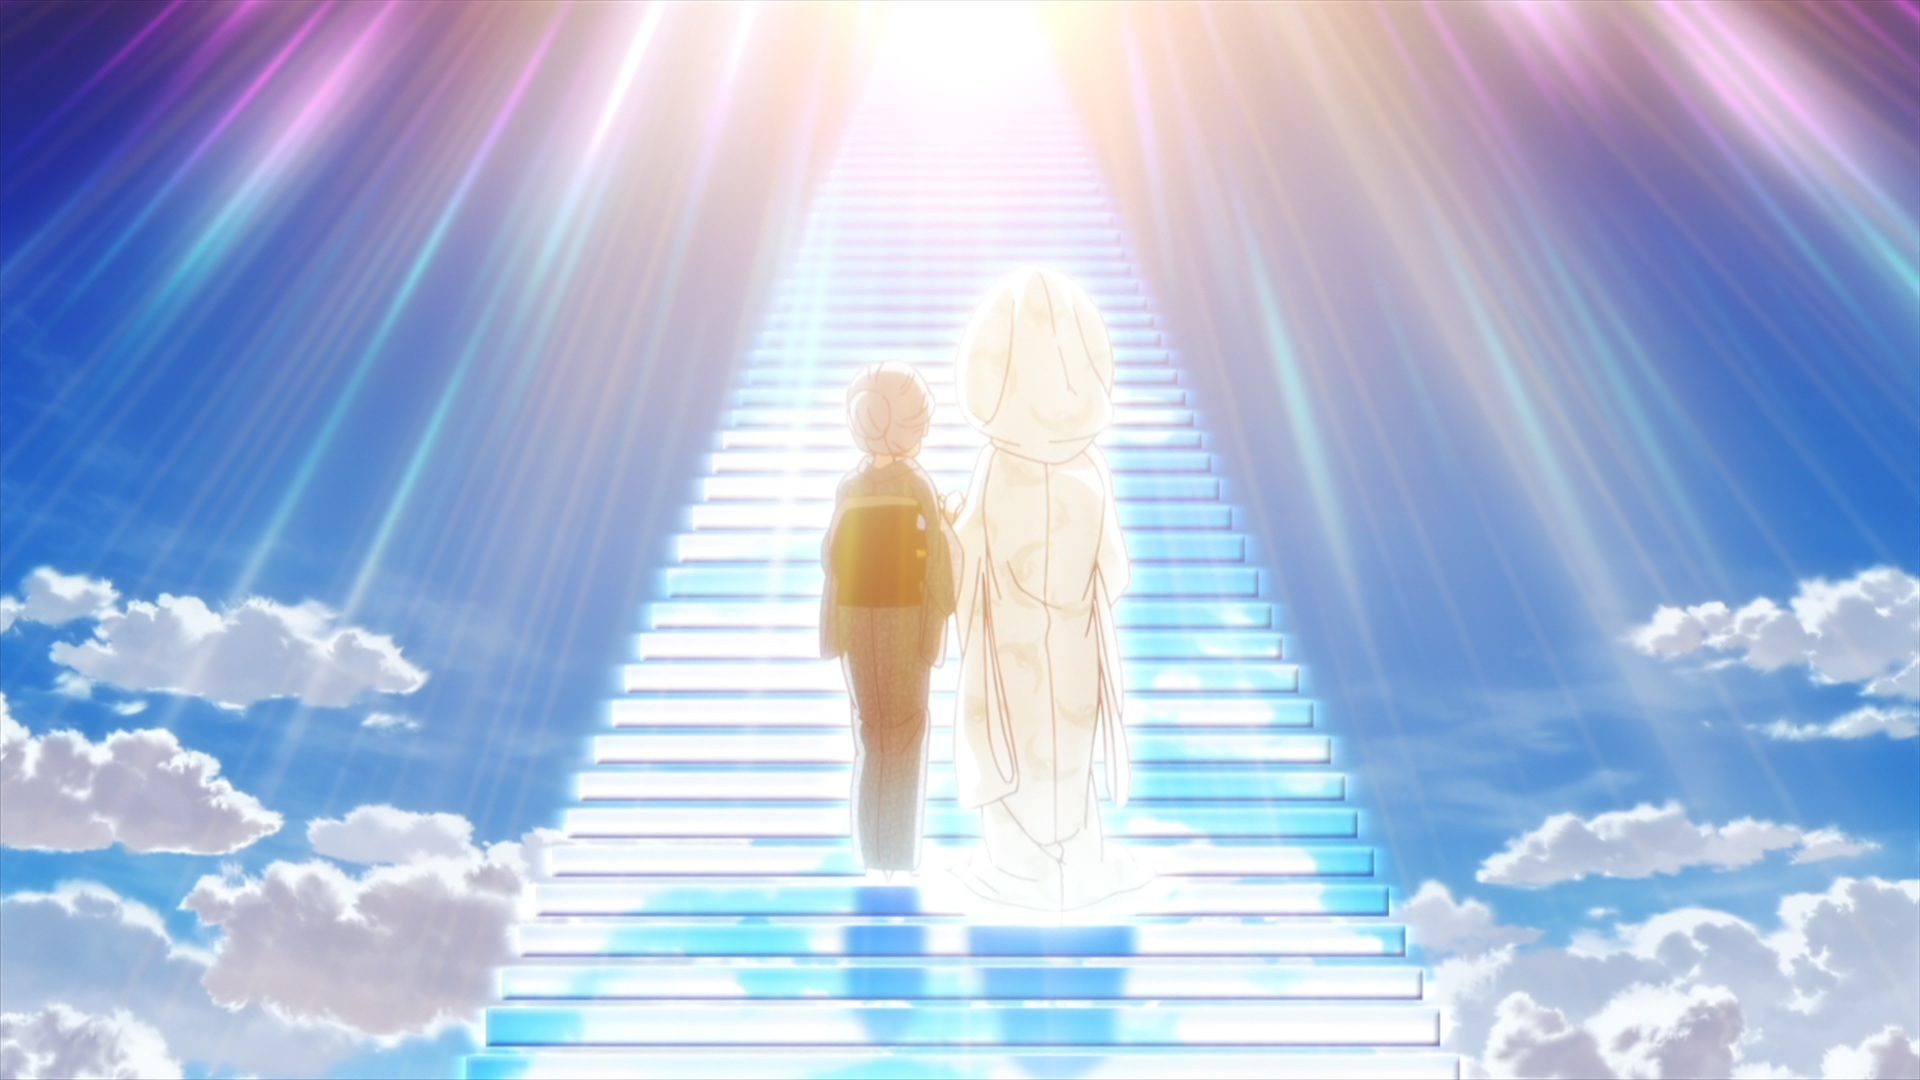其他: (949, 269, 1158, 906), (819, 359, 959, 884)
